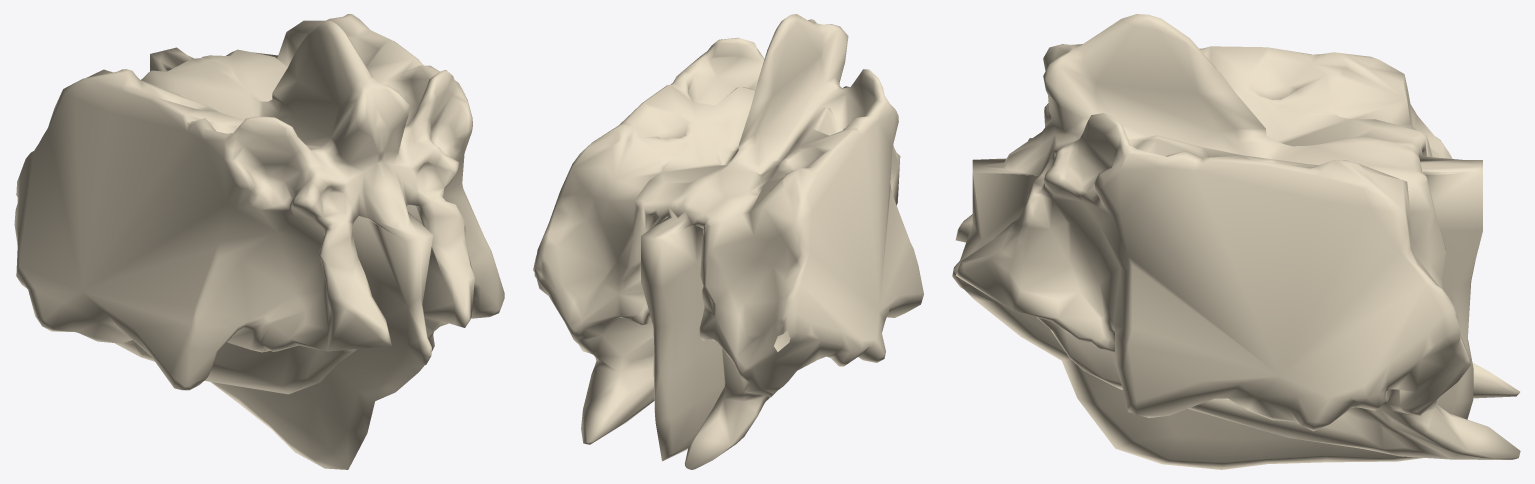
File: ethmoid-bone.glb
3 renders of one model, left to right at view 1: azimuth 30°, elevation 25°; view 2: azimuth 150°, elevation 25°; view 3: azimuth 270°, elevation 25°, orthographic. The views are drawn at different scales.
Parts seen in each view (by area): view 1: Ethmoid bone; view 2: Ethmoid bone; view 3: Ethmoid bone.
Part boxes in pixels (<box>): Ethmoid bone: <box>14,14,504,469</box>; Ethmoid bone: <box>533,14,923,469</box>; Ethmoid bone: <box>952,14,1520,469</box>.
Size of the model in its own units: 0.0375 by 0.0394 by 0.0445.
